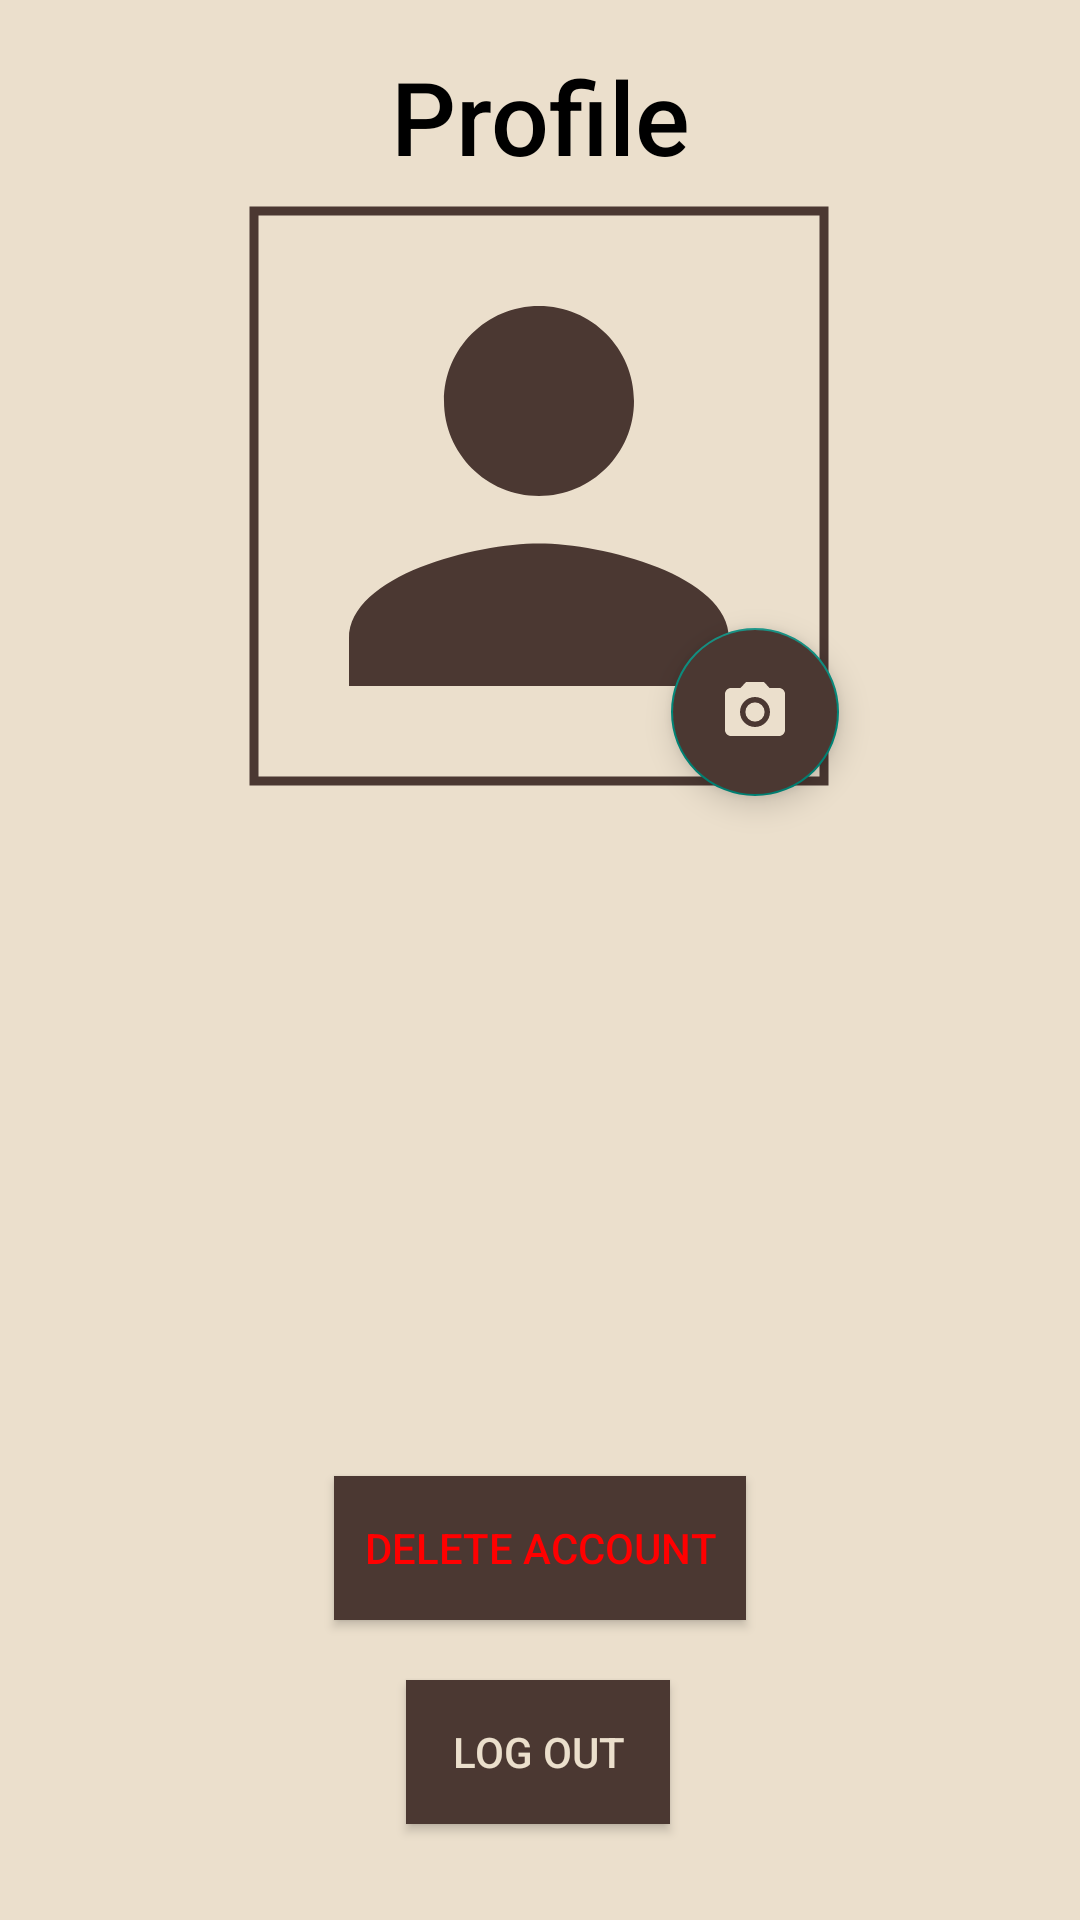

Named icons in this screenshot (1080x1920) and their bounding boxes, [x1, y1, x2, y2]:
photo camera: [671, 628, 839, 796]
